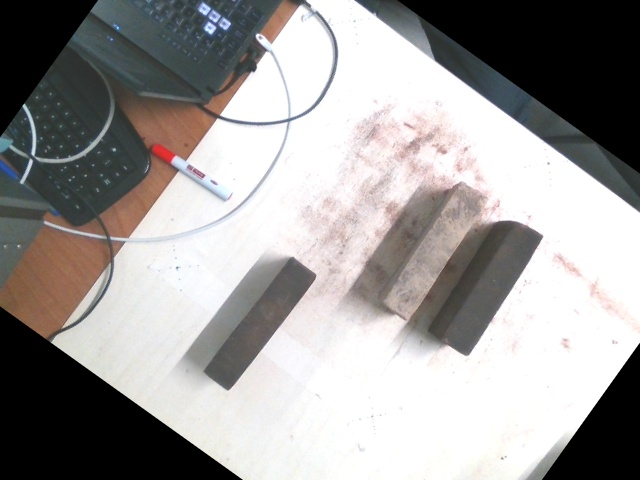brick-side: (206, 261, 315, 391), (384, 182, 487, 318), (444, 223, 542, 355)
